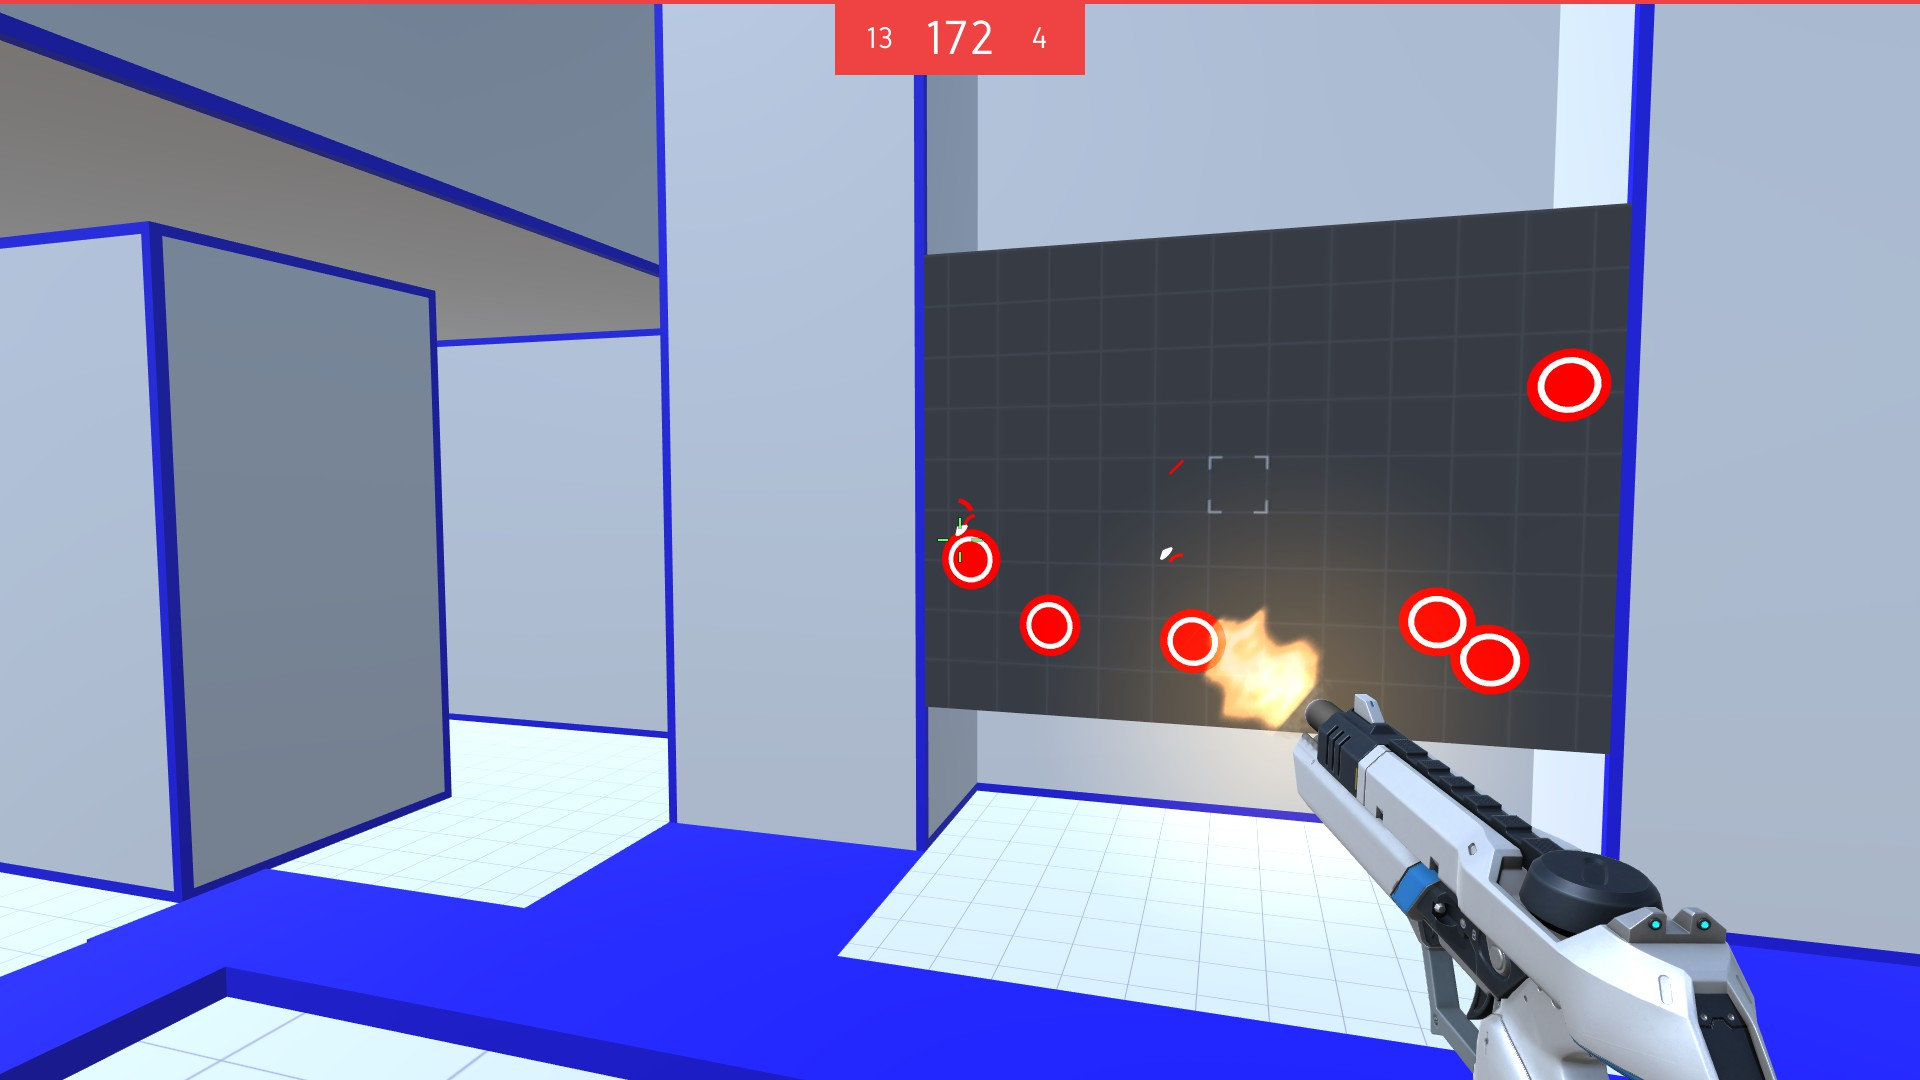target: (1523, 345, 1614, 426), (1395, 583, 1478, 662), (1451, 622, 1531, 698), (1156, 607, 1232, 679), (1014, 589, 1087, 665), (939, 526, 1005, 592)
